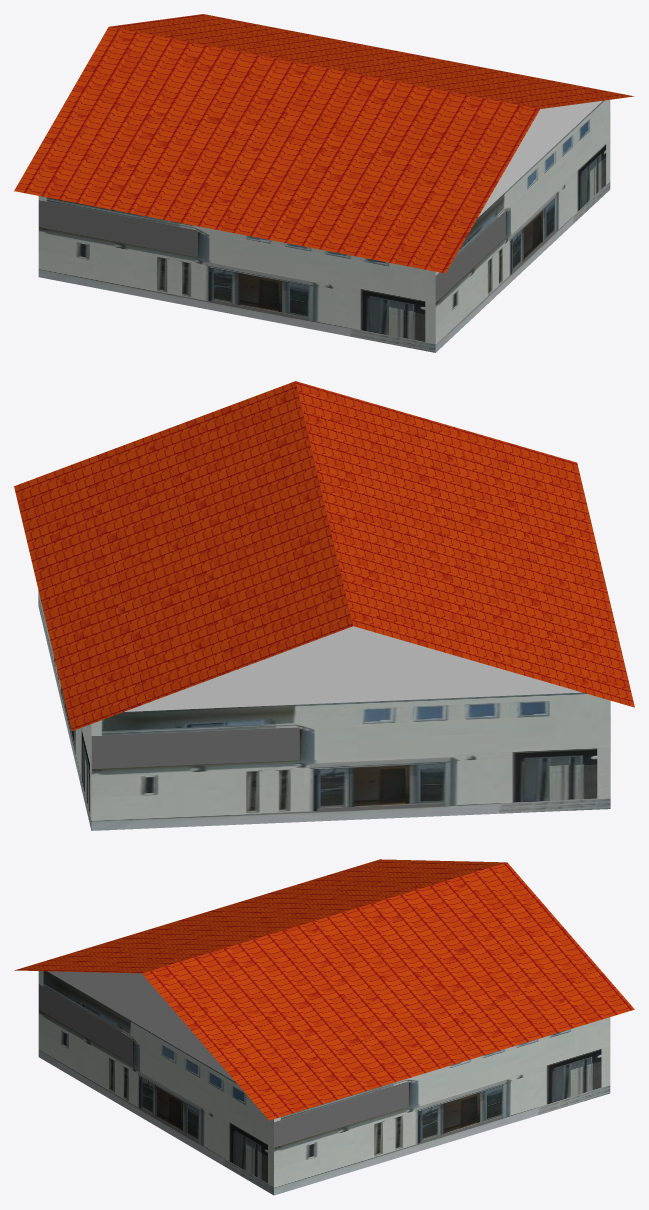
3 renders of one model, top to bottom at view 1: azimuth 30°, elevation 25°; view 2: azimuth 150°, elevation 25°; view 3: azimuth 270°, elevation 25°, orthographic. The views are drawn at different scales.
Visible parts, largest first — view 1: CityEngineMaterial_12_m, CityEngineMaterial_11_m, CityEngineMaterial_3_m; view 2: CityEngineMaterial_12_m, CityEngineMaterial_11_m, CityEngineMaterial_3_m; view 3: CityEngineMaterial_12_m, CityEngineMaterial_11_m, CityEngineMaterial_3_m.
Part boxes in pixels (x1,y1,x2,y2): CityEngineMaterial_12_m: [14, 14, 633, 273]; CityEngineMaterial_11_m: [38, 100, 610, 352]; CityEngineMaterial_3_m: [478, 100, 602, 217]; CityEngineMaterial_12_m: [14, 381, 634, 730]; CityEngineMaterial_11_m: [38, 590, 610, 830]; CityEngineMaterial_3_m: [124, 626, 581, 711]; CityEngineMaterial_12_m: [14, 859, 634, 1120]; CityEngineMaterial_11_m: [38, 971, 610, 1195]; CityEngineMaterial_3_m: [48, 971, 235, 1081].
Bounding box in the file's own units: 34.06 × 9.57 × 34.23.
